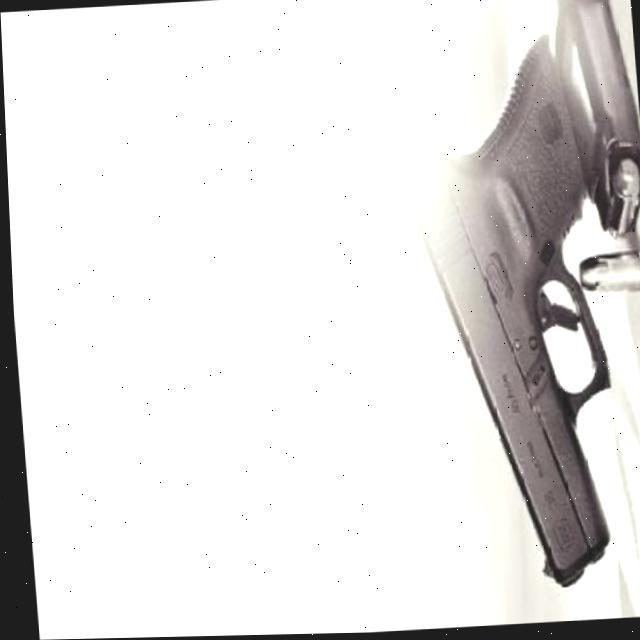gun: (380, 30, 624, 625)
